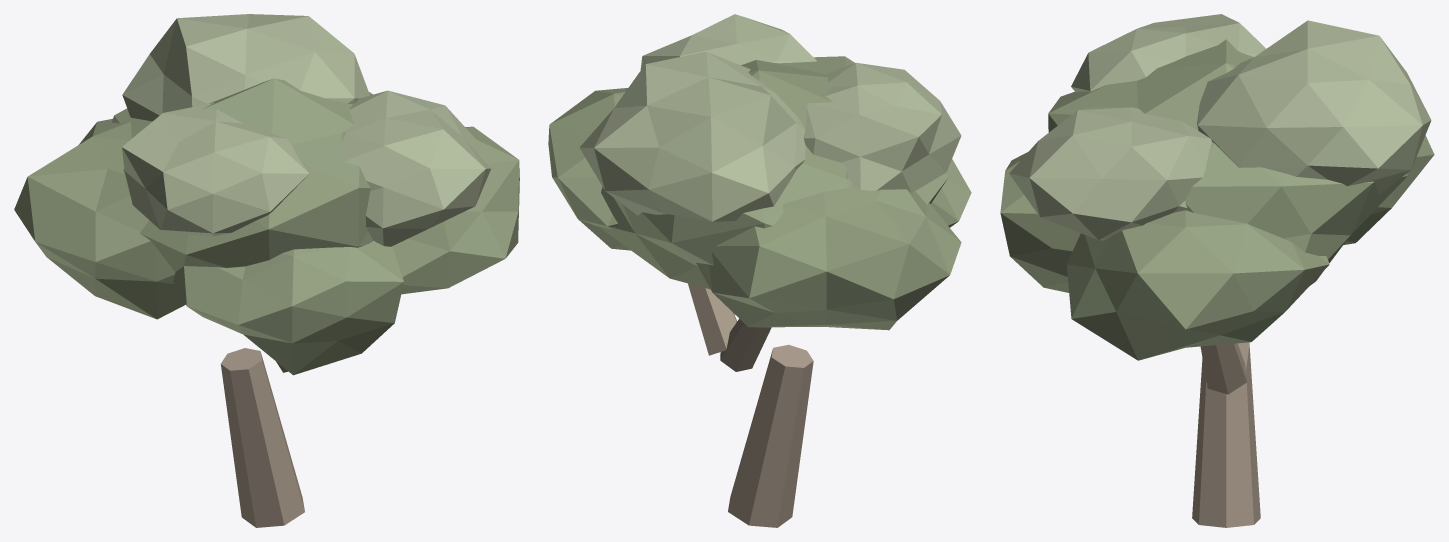
File: olive.gltf
3 views of the same model, side by side, from view 1: azimuth 30°, elevation 25°; view 2: azimuth 150°, elevation 25°; view 3: azimuth 270°, elevation 25° (orthographic). The views are drawn at different scales.
Parts seen in each view (by area): view 1: olive; view 2: olive; view 3: olive.
Boxes of the visible parts, box(x1,y1,x2,y2) form: olive: box(14, 14, 519, 527); olive: box(548, 14, 971, 527); olive: box(1000, 14, 1434, 527).
Size of the model in its own units: 3.96 by 3.93 by 3.2.
